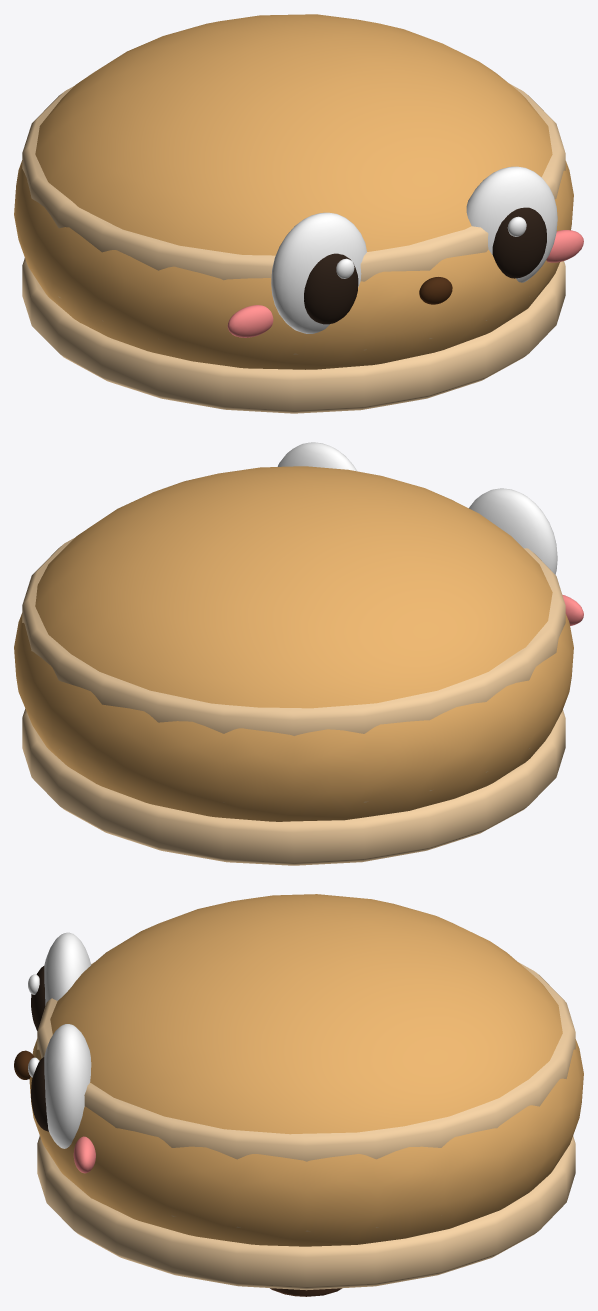
File: PrairiePancake.fbx
3 views of the same model, one above another, from view 1: azimuth 30°, elevation 25°; view 2: azimuth 150°, elevation 25°; view 3: azimuth 270°, elevation 25° (orthographic).
Parts seen in each view (by area): view 1: Body, Belly, EyeWhite, Ink, Cheek, Dark; view 2: Body, Belly, EyeWhite; view 3: Body, Belly, EyeWhite, Ink, Cheek.
Part boxes in pixels (box(x1,y1,x2,y2)): Body: box(14, 14, 573, 369); Belly: box(22, 83, 565, 413); EyeWhite: box(271, 166, 557, 333); Ink: box(304, 207, 546, 324); Cheek: box(227, 230, 583, 337); Dark: box(419, 277, 452, 304); Body: box(14, 466, 573, 821); Belly: box(22, 538, 565, 865); EyeWhite: box(277, 442, 557, 574); Body: box(29, 894, 583, 1246); Belly: box(37, 962, 575, 1290); EyeWhite: box(28, 932, 91, 1148); Ink: box(31, 966, 48, 1131); Cheek: box(73, 1136, 95, 1173).
Bounding box in the file's own units: 2.34 × 2.41 × 1.4.
